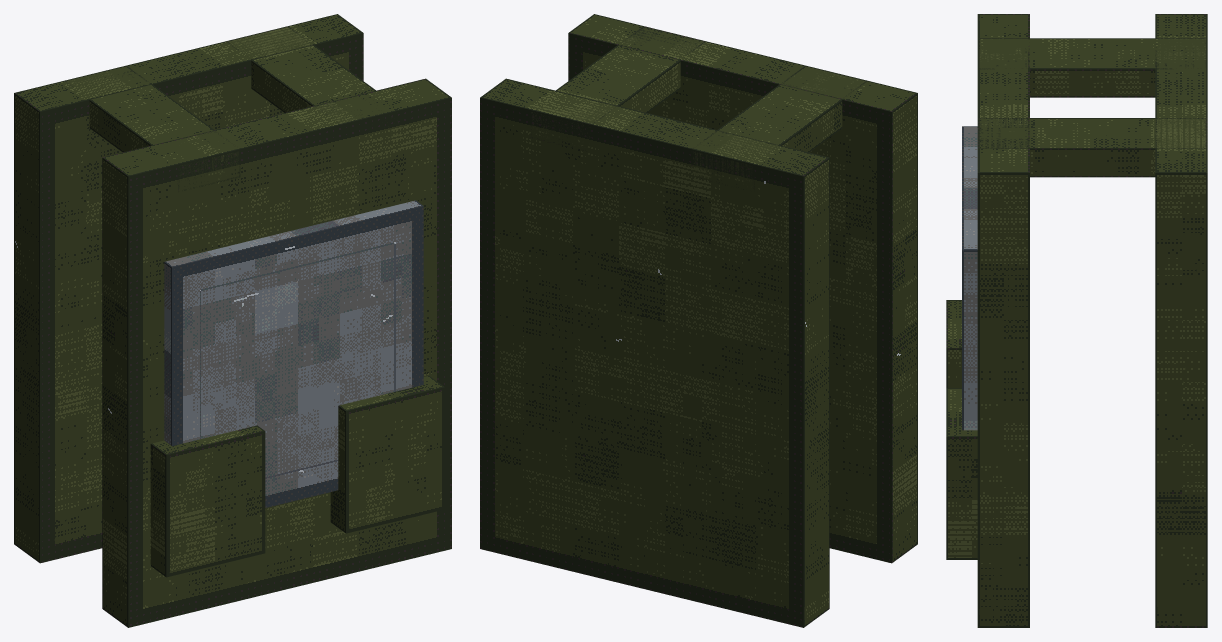
The model's file is SM_Vest_Armor_01.glb.
3 views of the same model, side by side, from view 1: azimuth 30°, elevation 25°; view 2: azimuth 150°, elevation 25°; view 3: azimuth 270°, elevation 25° (orthographic).
Parts seen in each view (by area): view 1: SM_Vest_Armor_01; view 2: SM_Vest_Armor_01; view 3: SM_Vest_Armor_01.
Boxes of the visible parts, x1=… form: SM_Vest_Armor_01: x1=14, y1=14, x2=451, y2=627; SM_Vest_Armor_01: x1=480, y1=14, x2=917, y2=627; SM_Vest_Armor_01: x1=946, y1=14, x2=1207, y2=627.
Size of the model in its own units: 0.36 by 0.48 by 0.25.
1 material, 1 textured.
